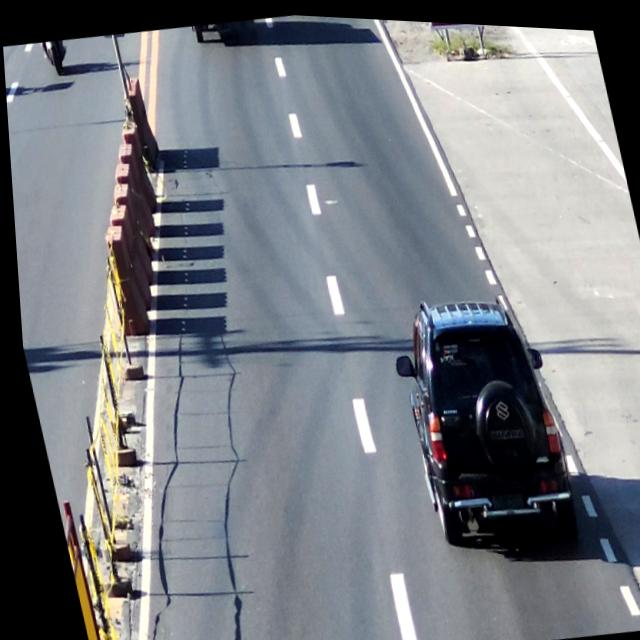Car: (382, 280, 579, 559)
